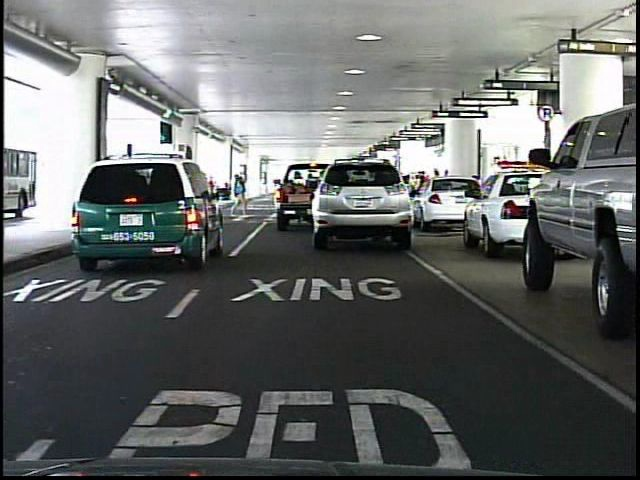person: (229, 168, 253, 222)
